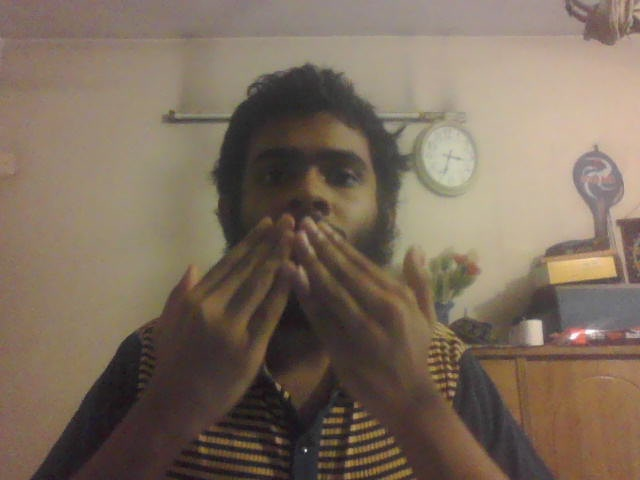Thank You: (158, 213, 462, 412)
